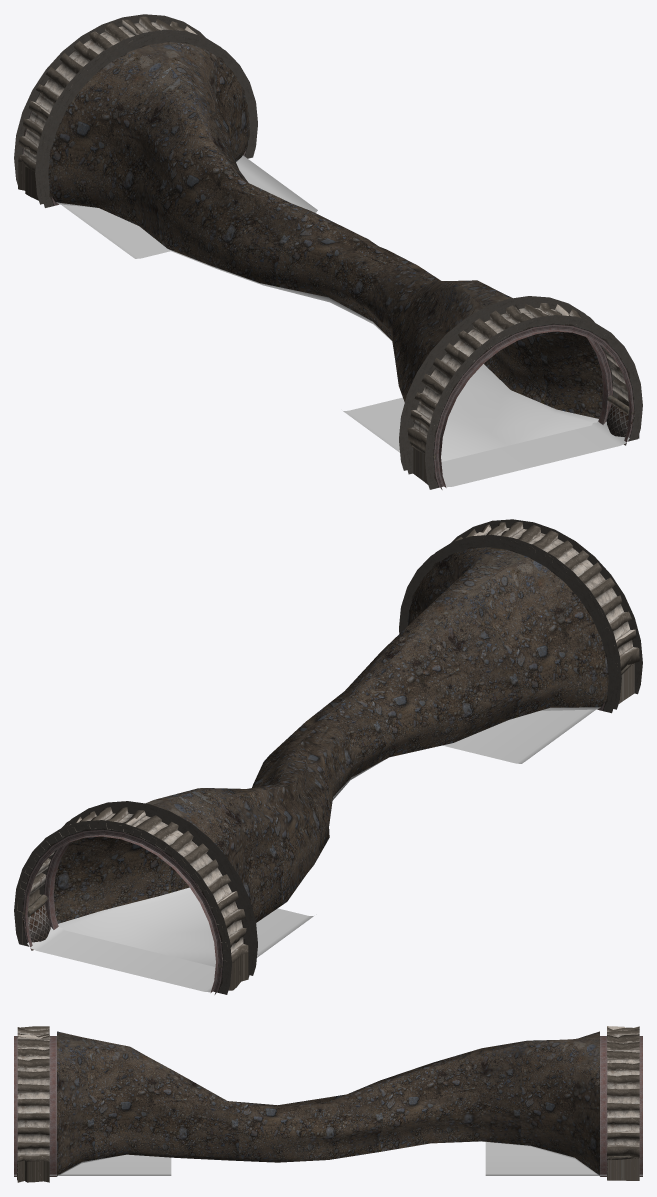
The model's file is Constrained Tunnel Tile Short.dae.
The picture shows the model from 3 angles, top to bottom: view 1: azimuth 30°, elevation 25°; view 2: azimuth 150°, elevation 25°; view 3: azimuth 270°, elevation 25°; orthographic projection. The views are drawn at different scales.
Visible parts, largest first — view 1: DirtWall, Walls, Ground; view 2: DirtWall, Walls, Ground; view 3: DirtWall, Walls, Ground.
Boxes of the visible parts, x1=… form: DirtWall: x1=48, y1=42, x2=603, y2=418; Walls: x1=14, y1=14, x2=642, y2=489; Ground: x1=56, y1=155, x2=629, y2=487; DirtWall: x1=53, y1=547, x2=608, y2=923; Walls: x1=14, y1=519, x2=642, y2=994; Ground: x1=27, y1=707, x2=600, y2=992; DirtWall: x1=57, y1=1031, x2=599, y2=1175; Walls: x1=14, y1=1026, x2=642, y2=1182; Ground: x1=14, y1=1141, x2=642, y2=1176.
Bounding box in the file's own units: 6.06 × 20 × 3.99.
